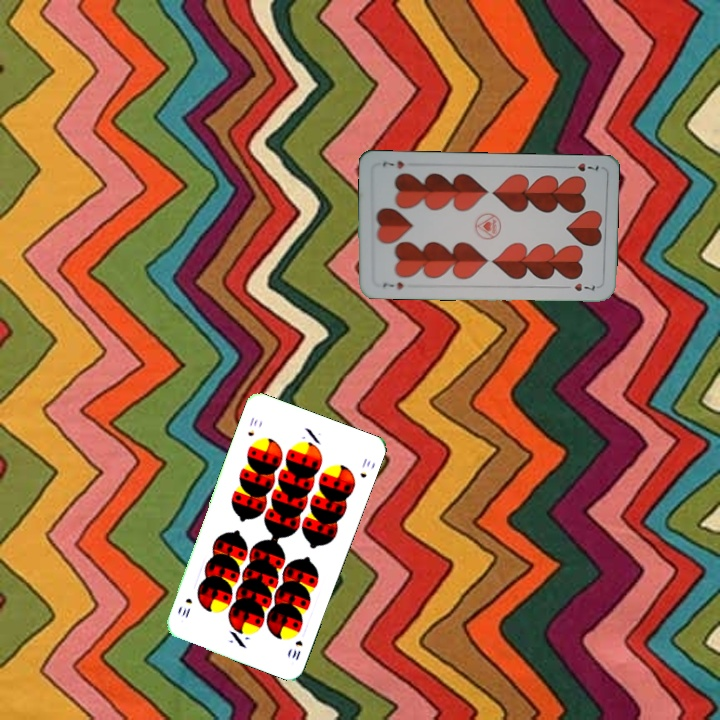H7: (562, 159, 601, 174), (379, 278, 406, 292)
S10: (288, 636, 305, 663), (243, 413, 260, 439)
